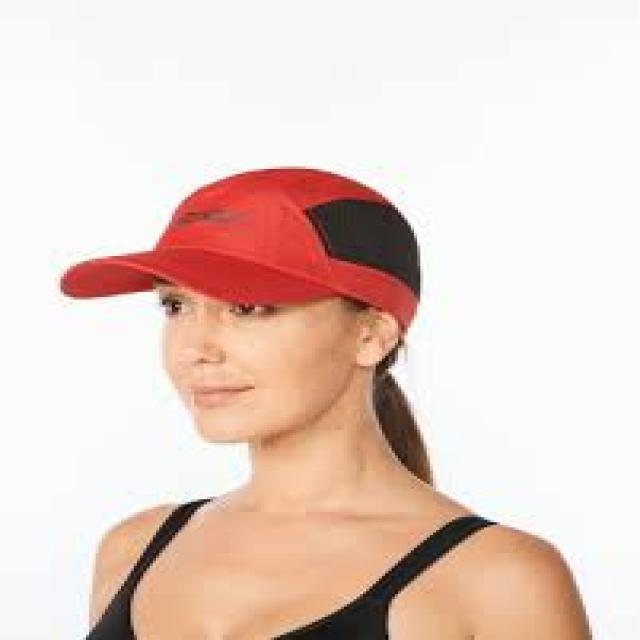cap: (41, 154, 465, 396)
